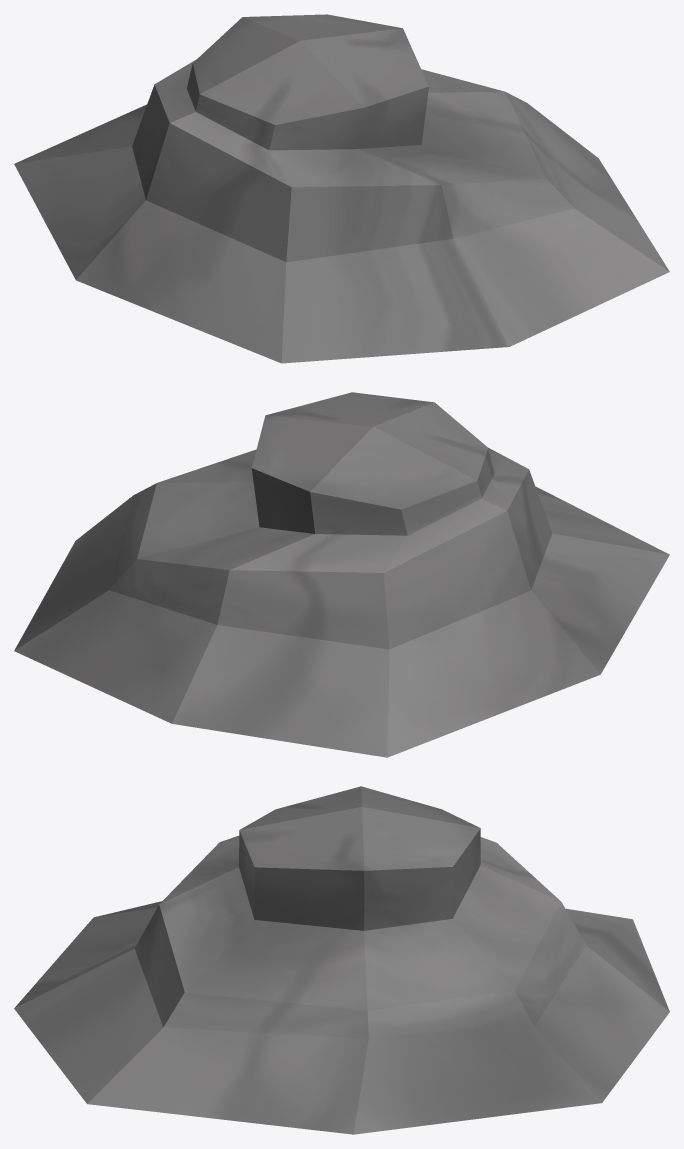
The model's file is stone-003-48.glb.
3 renders of one model, top to bottom at view 1: azimuth 30°, elevation 25°; view 2: azimuth 150°, elevation 25°; view 3: azimuth 270°, elevation 25°, orthographic. The views are drawn at different scales.
Parts seen in each view (by area): view 1: stone.003_48; view 2: stone.003_48; view 3: stone.003_48.
Boxes of the visible parts, x1,y1,x2,y2 form: stone.003_48: (14,14,669,363); stone.003_48: (14,392,669,757); stone.003_48: (14,786,669,1134).
Size of the model in its own units: 10.09 by 3.48 by 11.16.
Materials: 1 (1 with a texture image).
